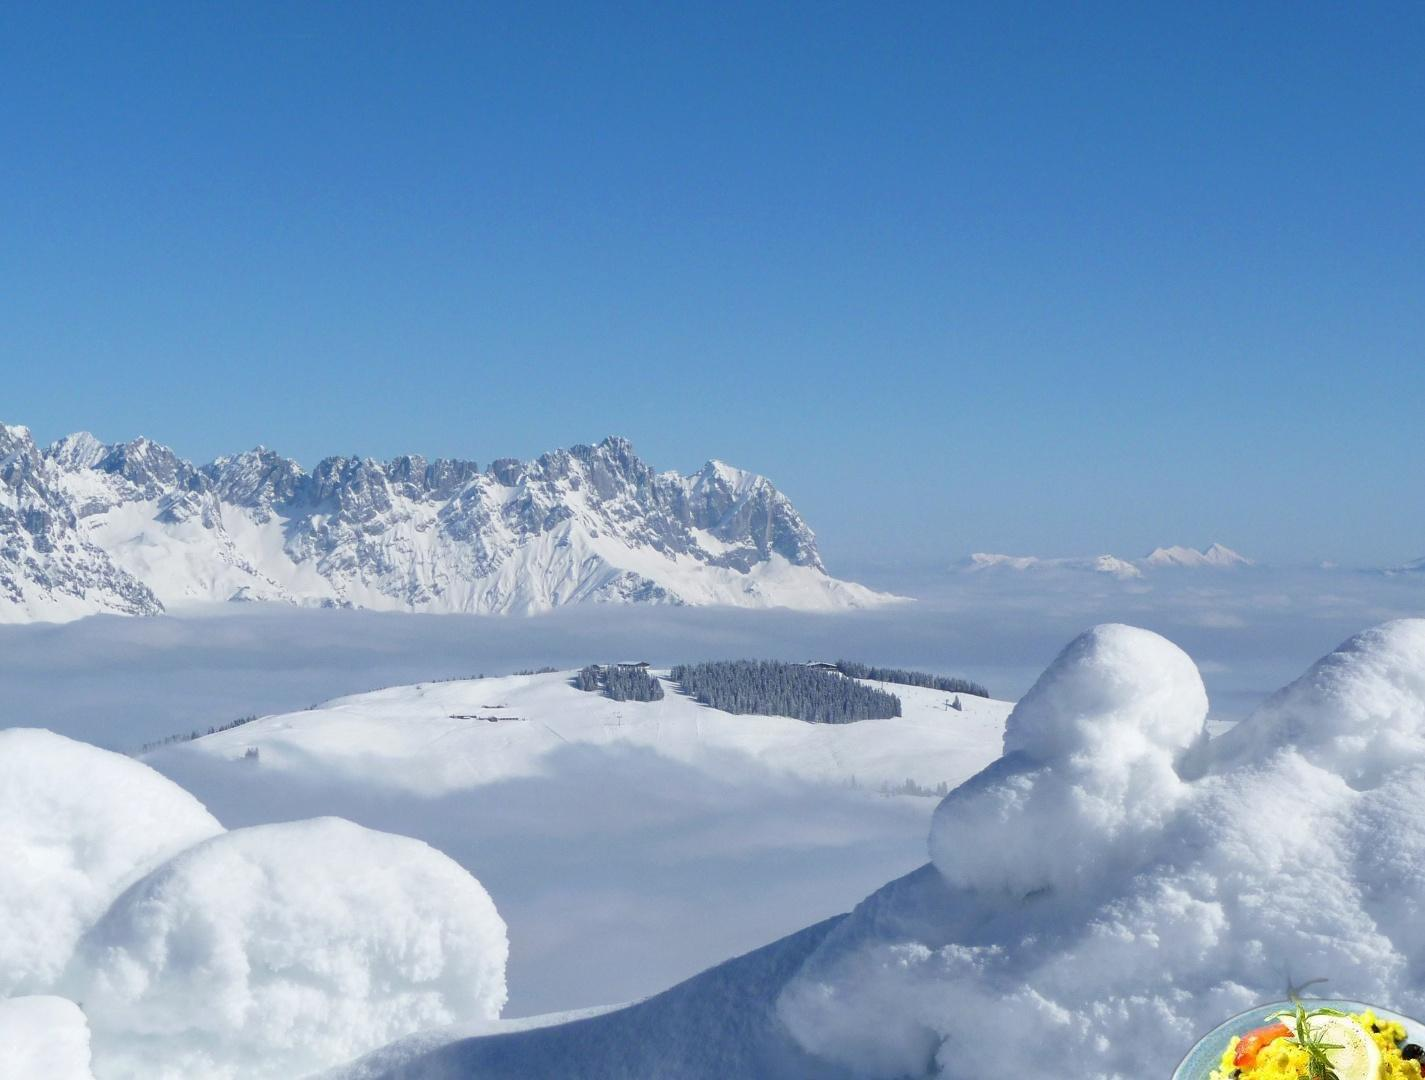biological: (1161, 956, 1425, 1080)
metal-cans: (777, 1075, 880, 1080)
